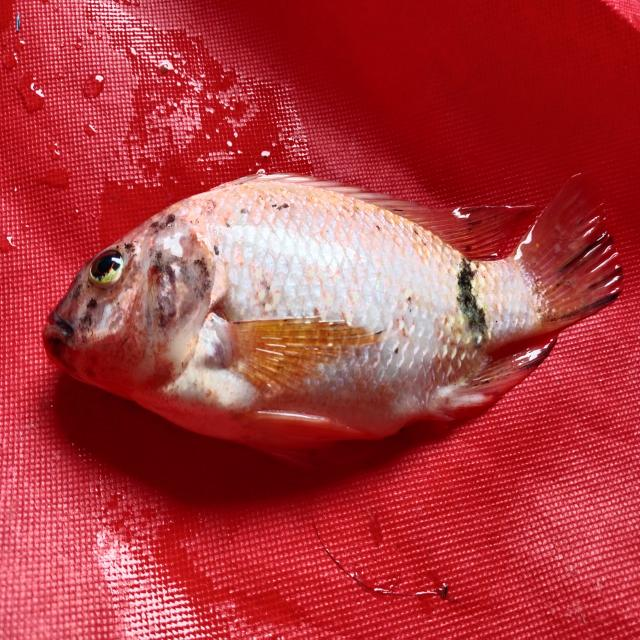ikan: (31, 161, 616, 446)
